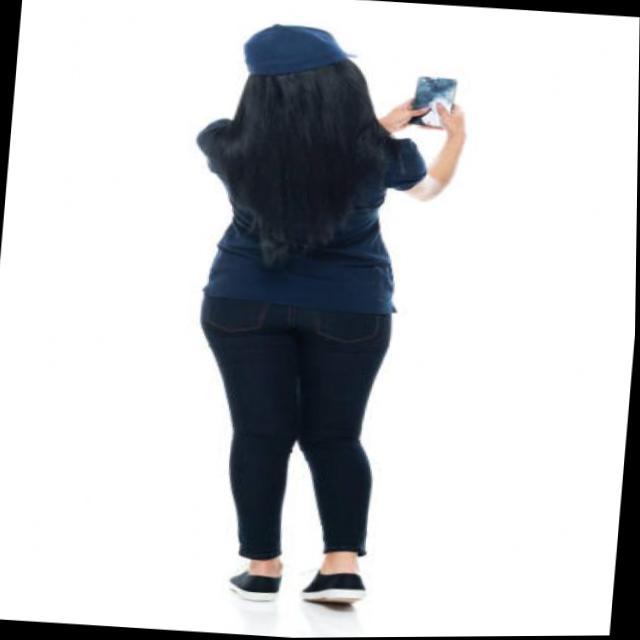no helmet: (209, 13, 402, 132)
